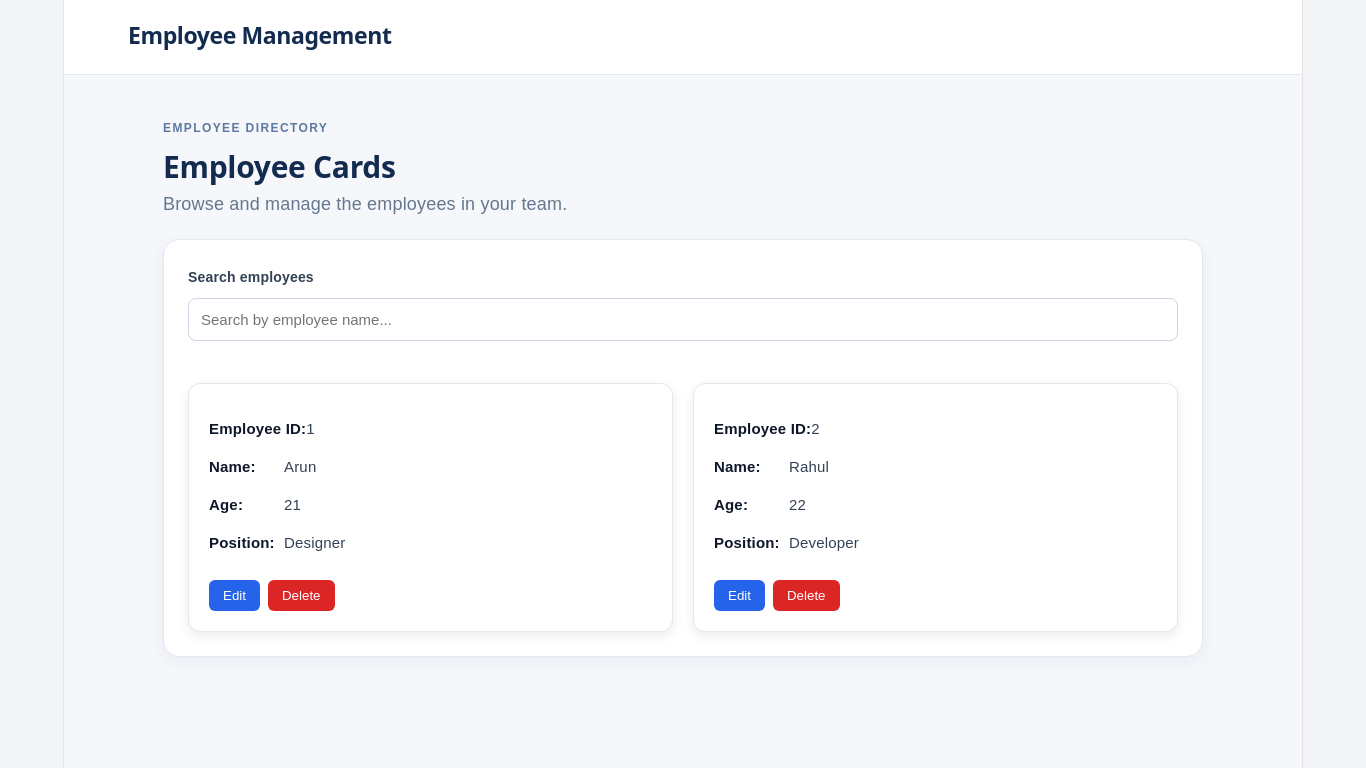
Test case: Employee pages › shows an empty state when search has no matches
Type "Unknown Employee" into the search field with placeholder "Search by employee name...". click: (683, 319)
box: [188, 298, 1178, 341]
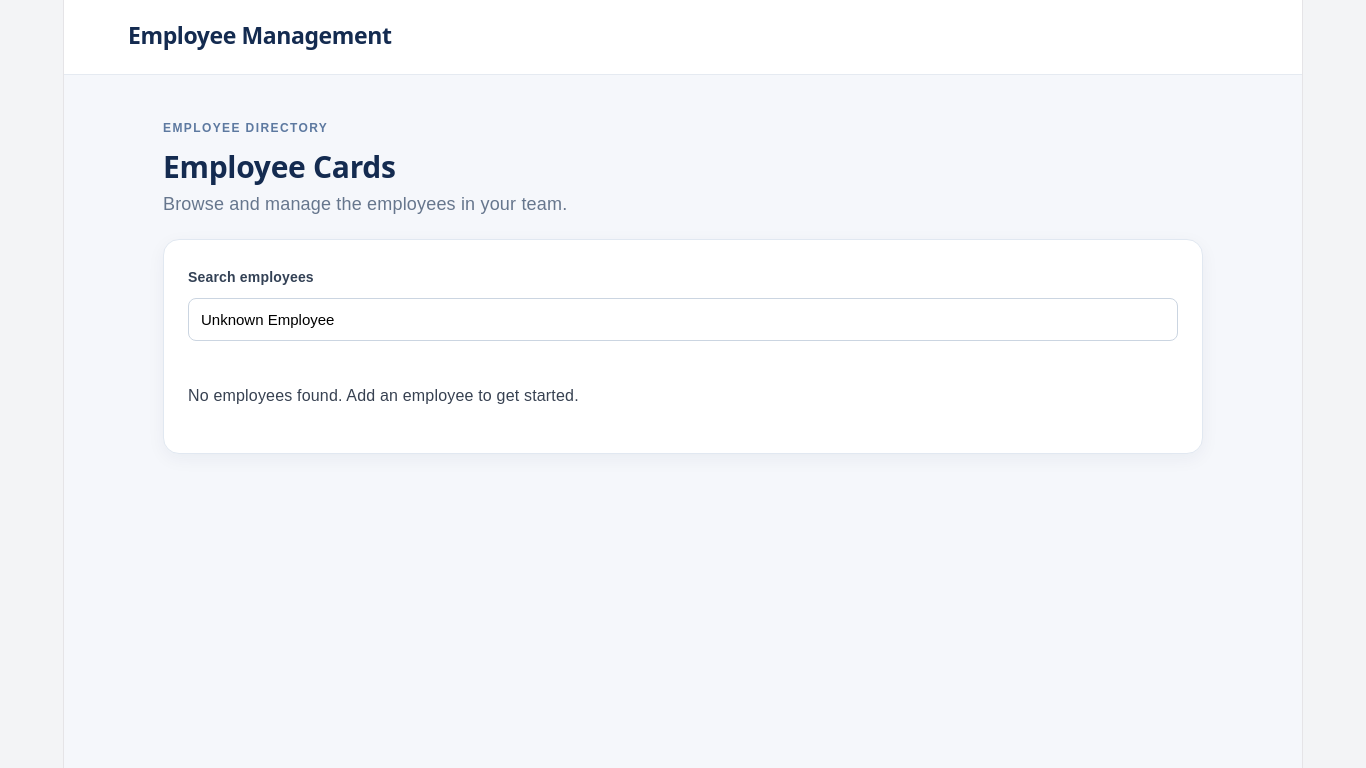
Expected: the text "No employees found. Add an employee to get started." is shown, [188, 387, 579, 404]
